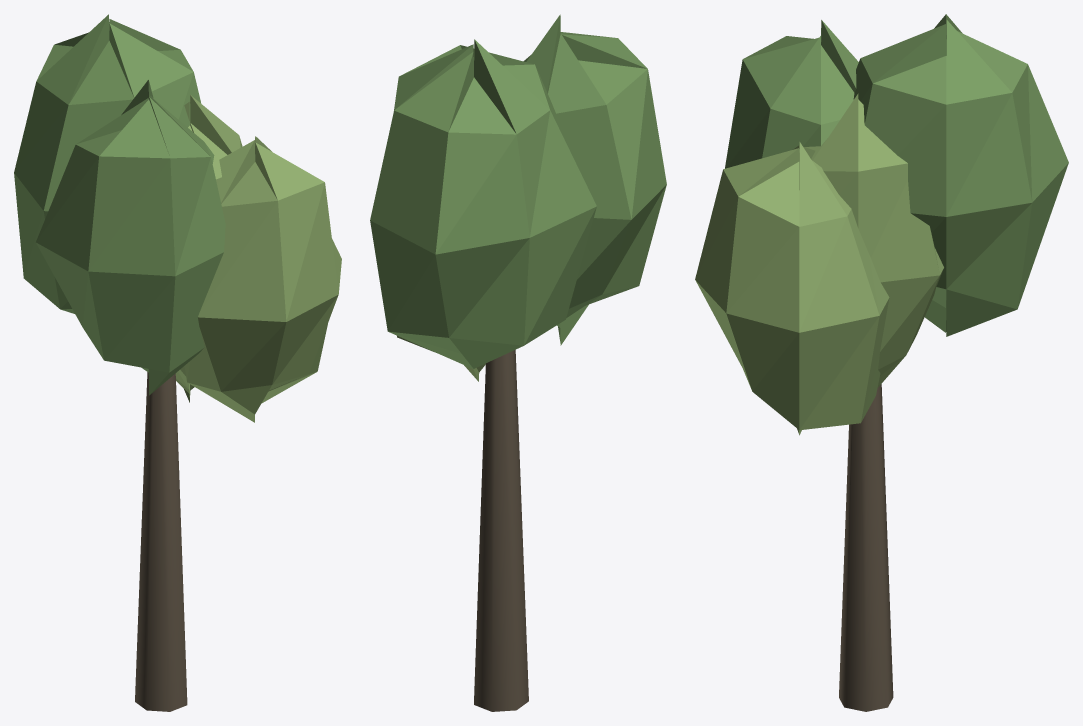
Rendered from ornamental_tree_variant_03_lod1.glb.
The picture shows the model from 3 angles, left to right: view 1: azimuth 30°, elevation 25°; view 2: azimuth 150°, elevation 25°; view 3: azimuth 270°, elevation 25°; orthographic projection. The views are drawn at different scales.
Visible parts, largest first — view 1: static_leaf_oak, static_leaf_light, trunk; view 2: static_leaf_oak, trunk; view 3: static_leaf_light, static_leaf_oak, trunk.
Part boxes in pixels (x1,y1,x2,y2): static_leaf_oak: [14, 14, 225, 395]; static_leaf_light: [175, 95, 341, 422]; trunk: [135, 372, 187, 711]; static_leaf_oak: [370, 14, 666, 368]; trunk: [474, 350, 528, 711]; static_leaf_light: [695, 93, 943, 435]; static_leaf_oak: [725, 14, 1068, 336]; trunk: [839, 384, 893, 711].
Size of the model in its own units: 2.31 by 5.36 by 2.67.
